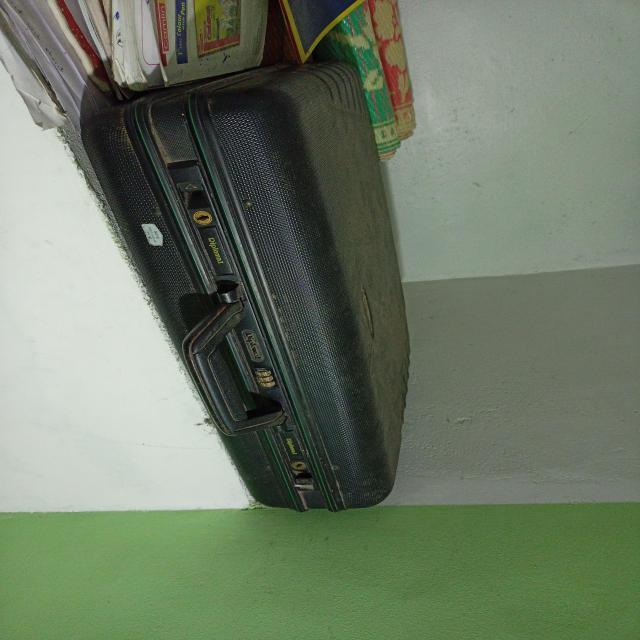luggage: (74, 54, 420, 515)
